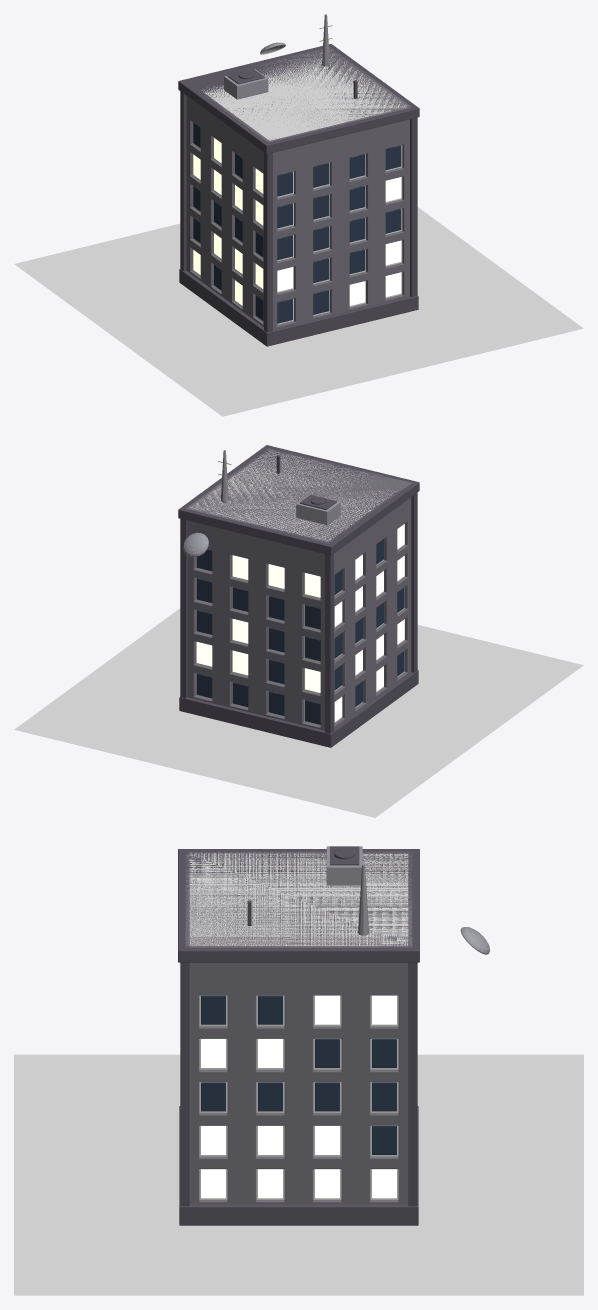
File: arena-building.glb
The picture shows the model from 3 angles, top to bottom: view 1: azimuth 30°, elevation 25°; view 2: azimuth 150°, elevation 25°; view 3: azimuth 270°, elevation 25°; orthographic projection. The views are drawn at different scales.
Visible parts, largest first — view 1: Plane, Bldg, COL_Bldg, WinDark, Cornice, Plinth, WinLit, Pil-1-1, Pil1-1, Pil-11, HVAC; view 2: Plane, Bldg, COL_Bldg, Cornice, WinDark, WinLit, Plinth, Pil-11, Pil11, Pil-1-1, HVAC, Dish; view 3: Plane, Bldg, COL_Bldg, Cornice, WinLit, WinDark, Plinth, Pil1-1, Pil11, HVAC.
Boxes of the visible parts, x1,y1,x2,y2 form: Plane: (14, 207, 583, 416); Bldg: (186, 46, 411, 329); COL_Bldg: (193, 50, 406, 324); WinDark: (193, 123, 401, 323); Cornice: (178, 44, 419, 154); Plinth: (179, 269, 418, 346); WinLit: (193, 138, 401, 305); Pil-1-1: (264, 141, 272, 332); Pil1-1: (409, 106, 417, 297); Pil-11: (180, 81, 186, 271); HVAC: (224, 69, 268, 99); Plane: (14, 608, 583, 817); Bldg: (186, 448, 411, 730); COL_Bldg: (190, 450, 404, 725); Cornice: (178, 445, 419, 555); WinDark: (196, 539, 404, 724); WinLit: (196, 524, 404, 721); Plinth: (179, 670, 418, 747); Pil-11: (325, 554, 333, 733); Pil11: (180, 507, 187, 698); Pil-1-1: (411, 482, 417, 672); HVAC: (296, 494, 340, 525); Dish: (183, 532, 208, 557); Plane: (14, 1054, 583, 1295); Bldg: (185, 851, 412, 1204); COL_Bldg: (189, 853, 408, 1199); Cornice: (178, 849, 419, 962); WinLit: (201, 995, 396, 1198); WinDark: (201, 995, 396, 1154); Plinth: (179, 1106, 418, 1225); Pil1-1: (180, 946, 189, 1206); Pil11: (408, 946, 417, 1206); HVAC: (326, 846, 362, 885).
Bounding box in the file's own units: 30 × 20 × 30.
